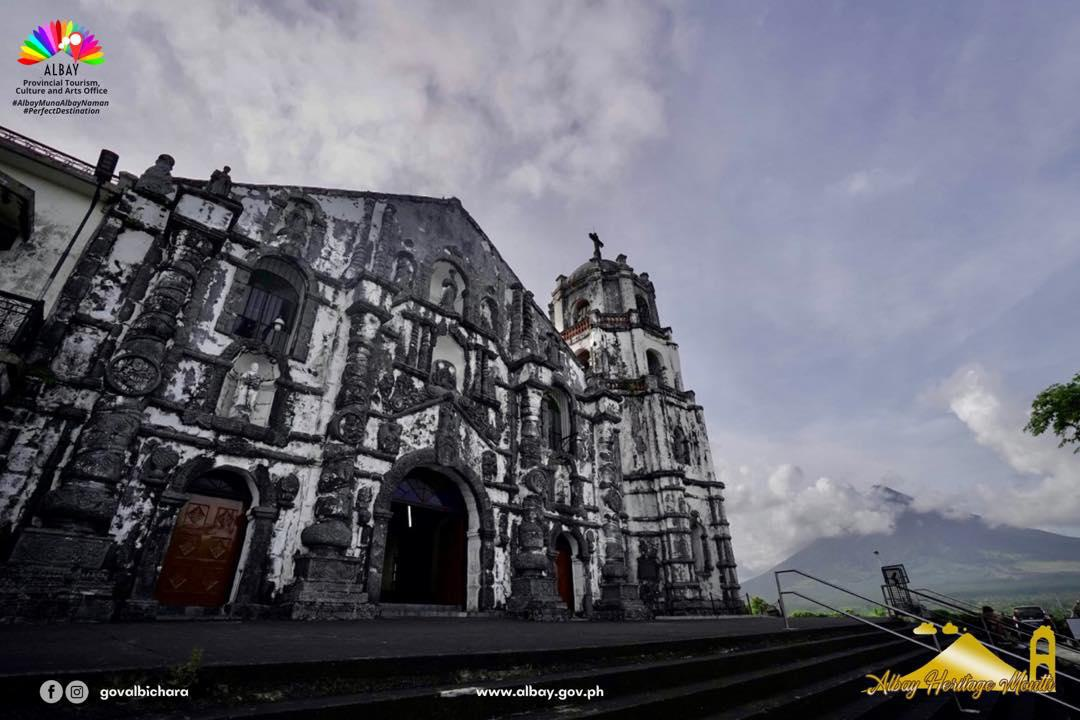daraga_church_daraga_albay: (75, 144, 749, 621)
